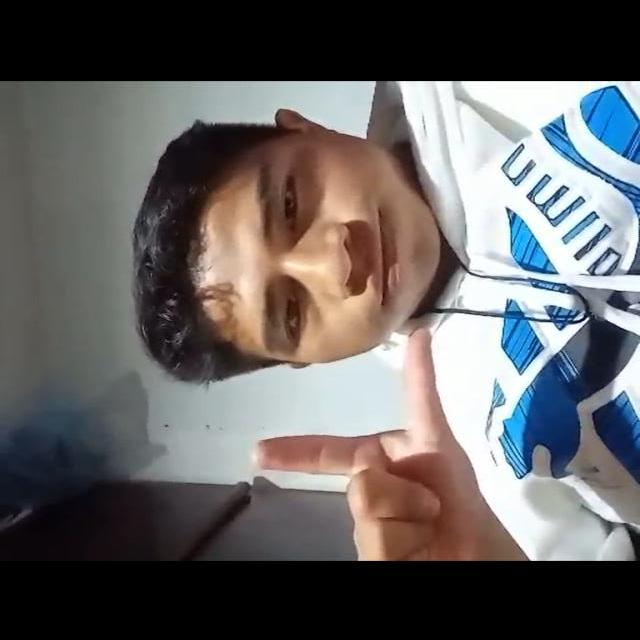L: (245, 333, 505, 561)
